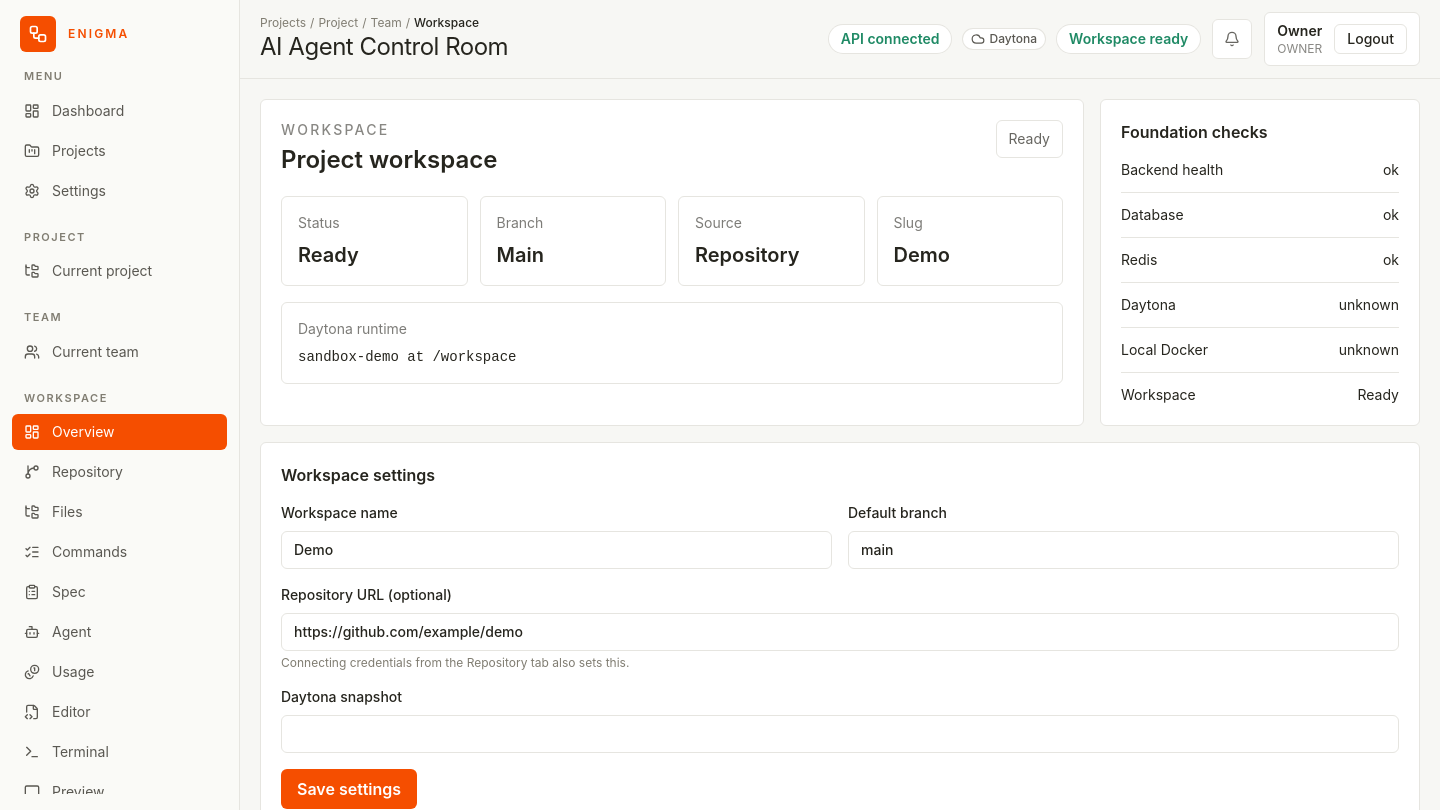
Scenario: App auth routing › logs out and returns to the login route
Expected: the heading "AI Agent Control Room" is shown, [260,31,508,63]
Click the button "Logout".
click(1371, 39)  # box [1334,24,1407,54]
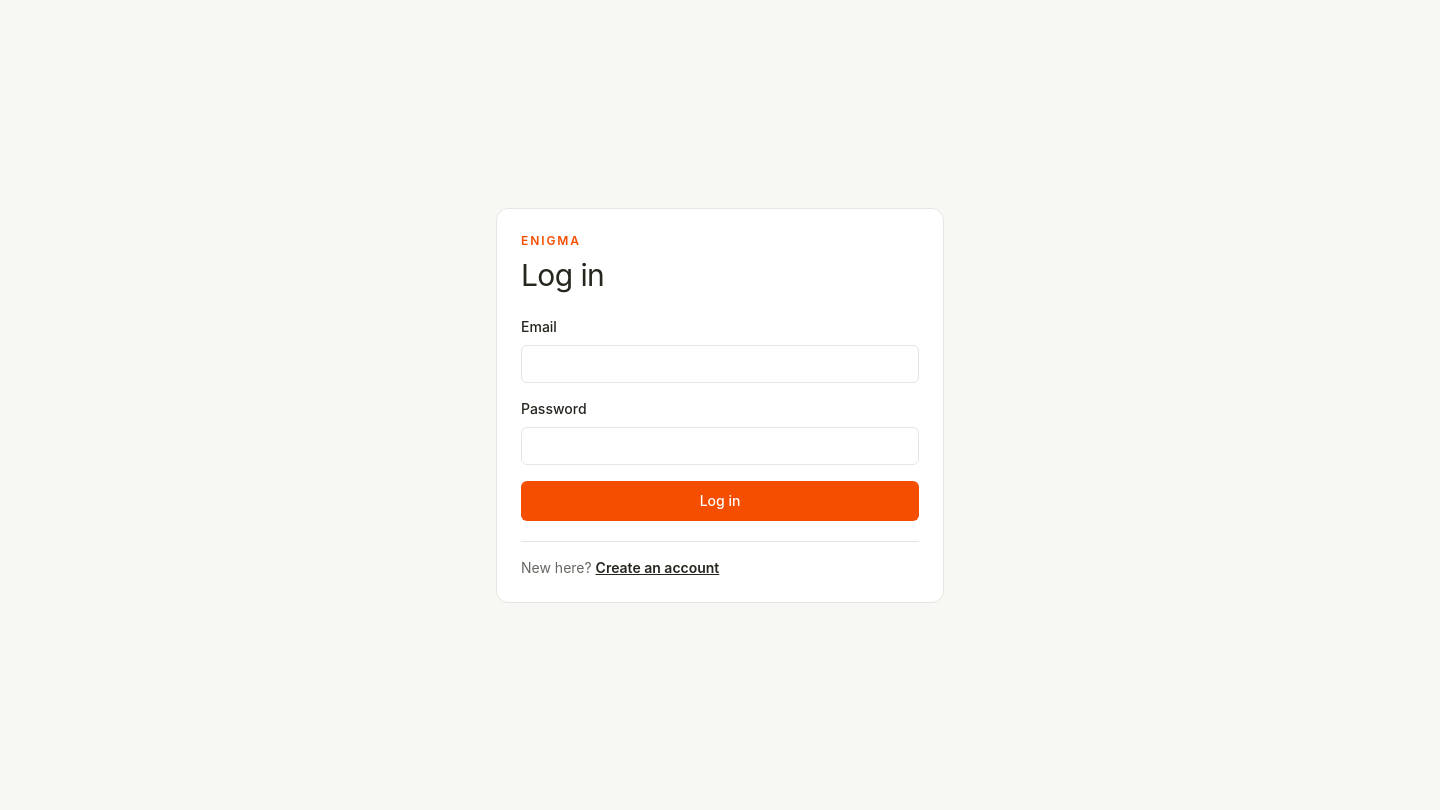
Result: the heading "Log in" is shown at [521,256,604,292]
